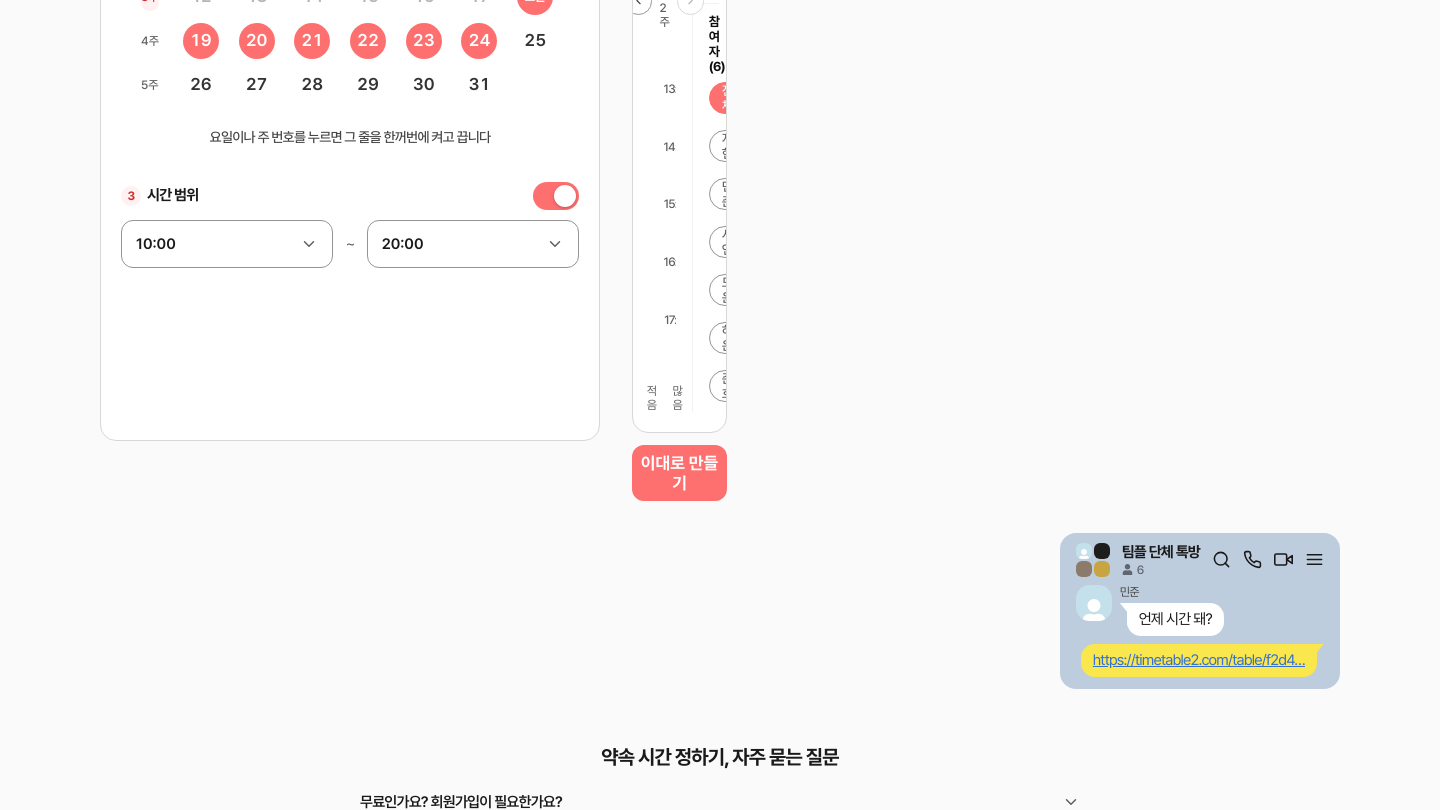
Test: 랜딩 실험 v2 › 휴대폰은 시간 칸을 누르면 아래 창에서 시간을 고르고, 고르면 창이 닫힌다
Click the button named "시작 시간 10:00" at (227,244), box [121,220,333,268]
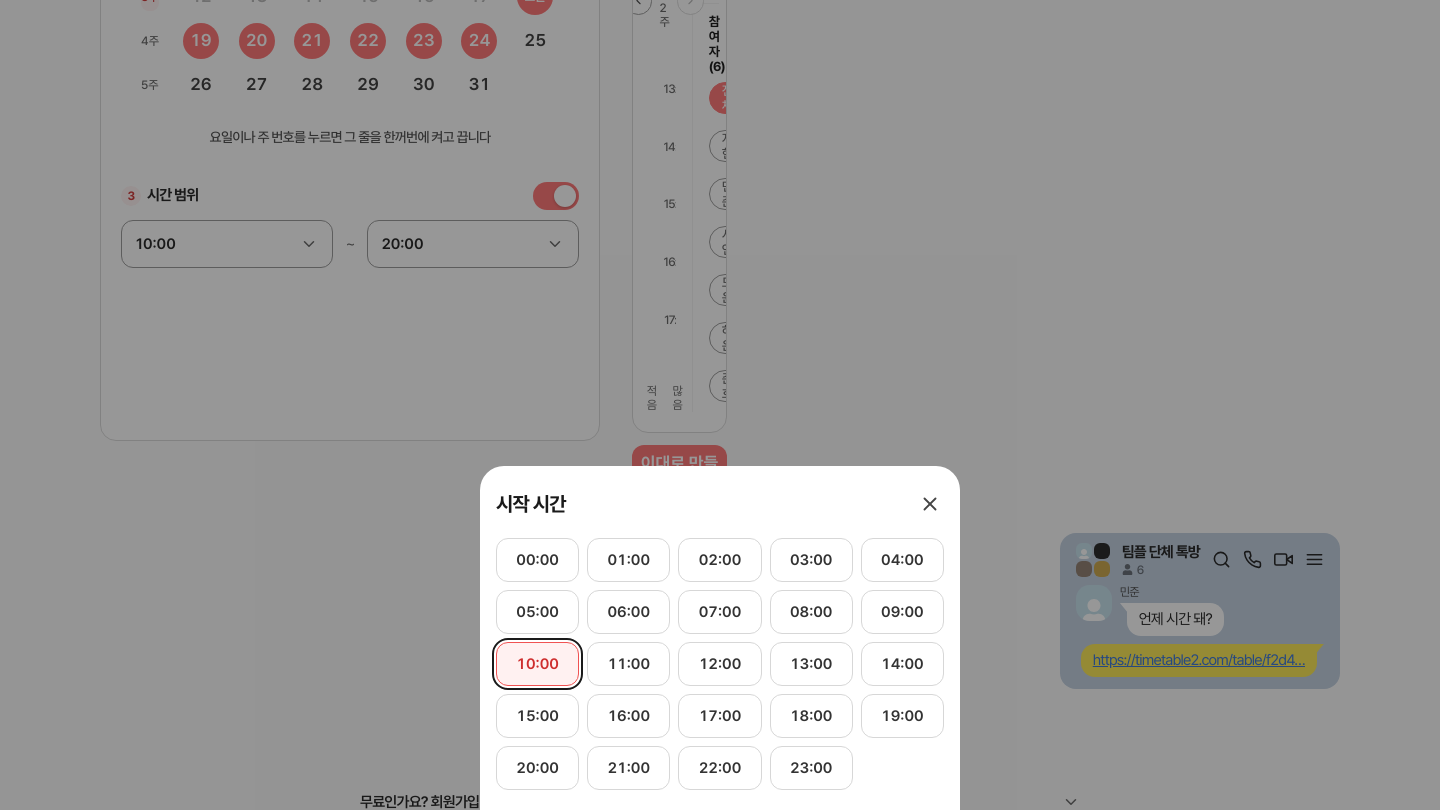
expect the button "10:00" is shown: met, box [496,642,579,686]
Click the button "13:00" at (811,664), box [770,642,853,686]
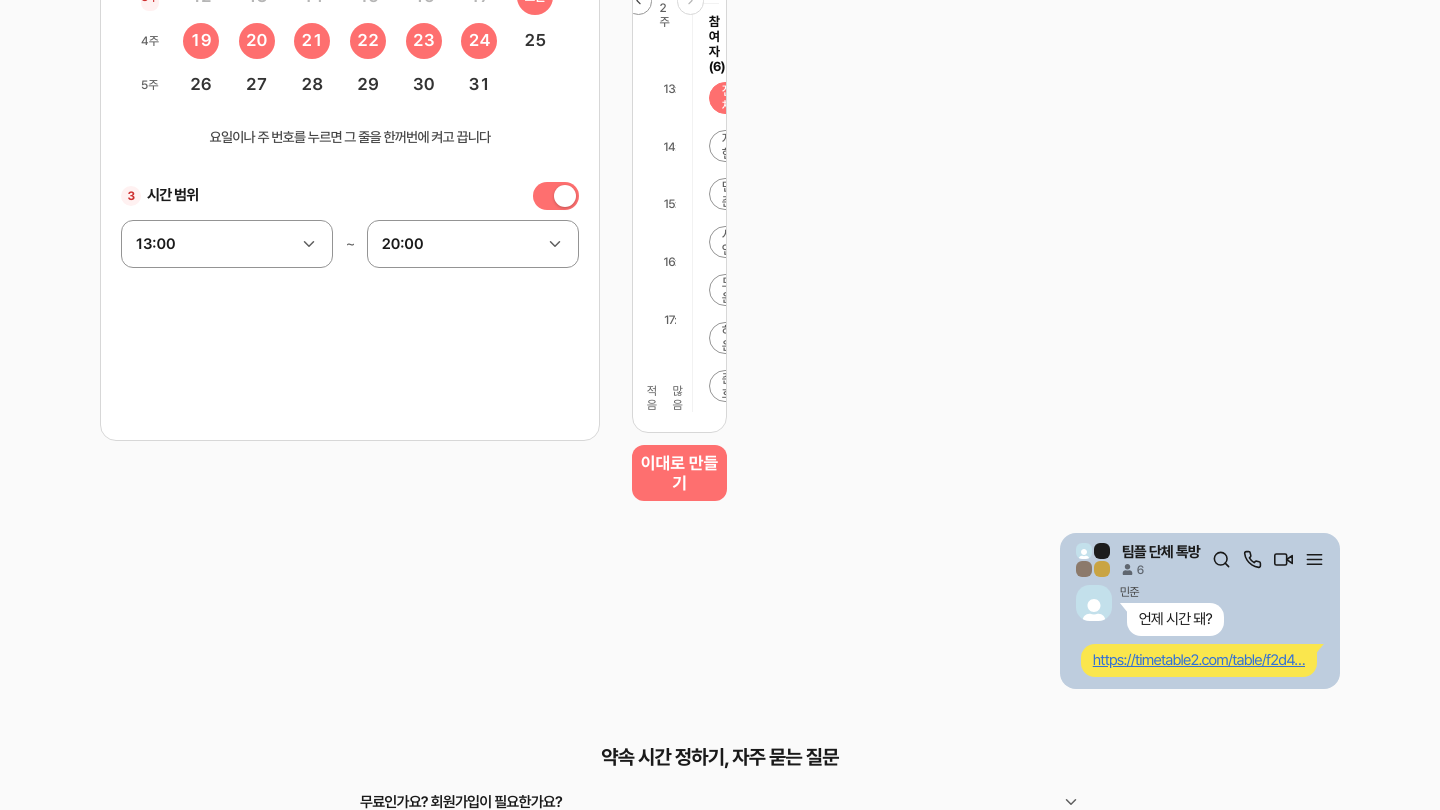
expect the heading "시작 시간" is gone: met
expect the button named "시작 시간 13:00" is shown: met, box [121,220,333,268]
Click the button named "종료 시간 20:00" at (473,244), box [367,220,579,268]
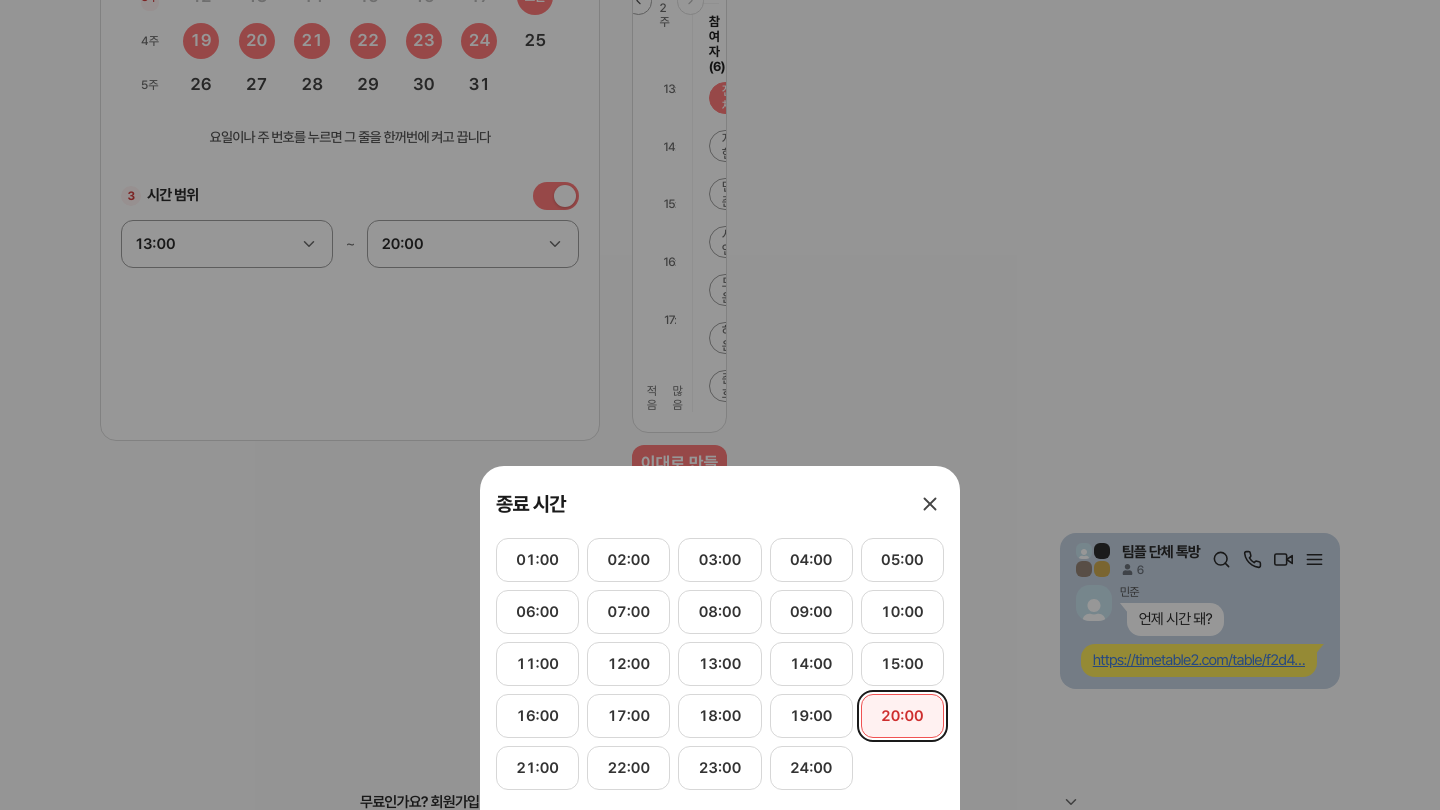
Press Escape
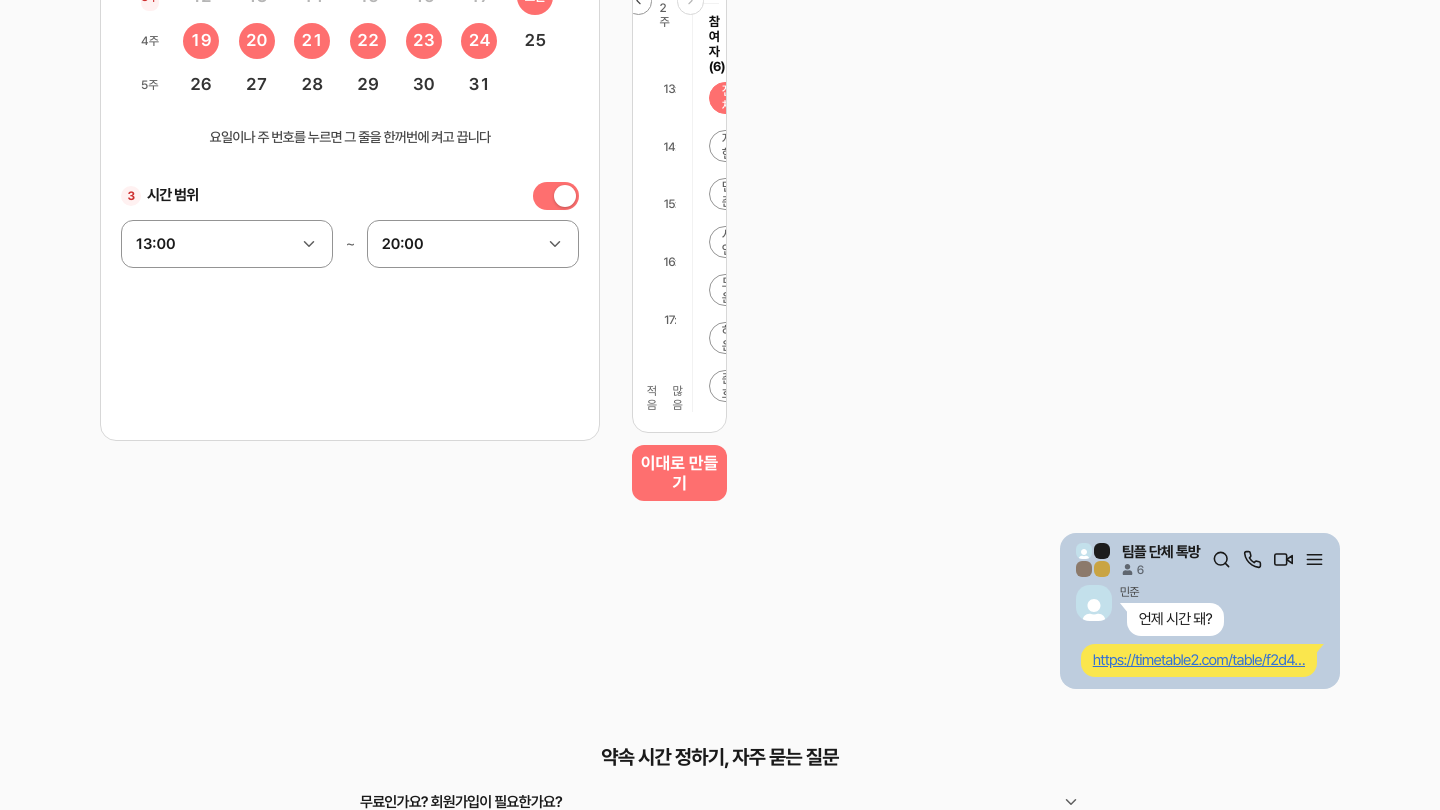
expect the heading "종료 시간" is gone: met
